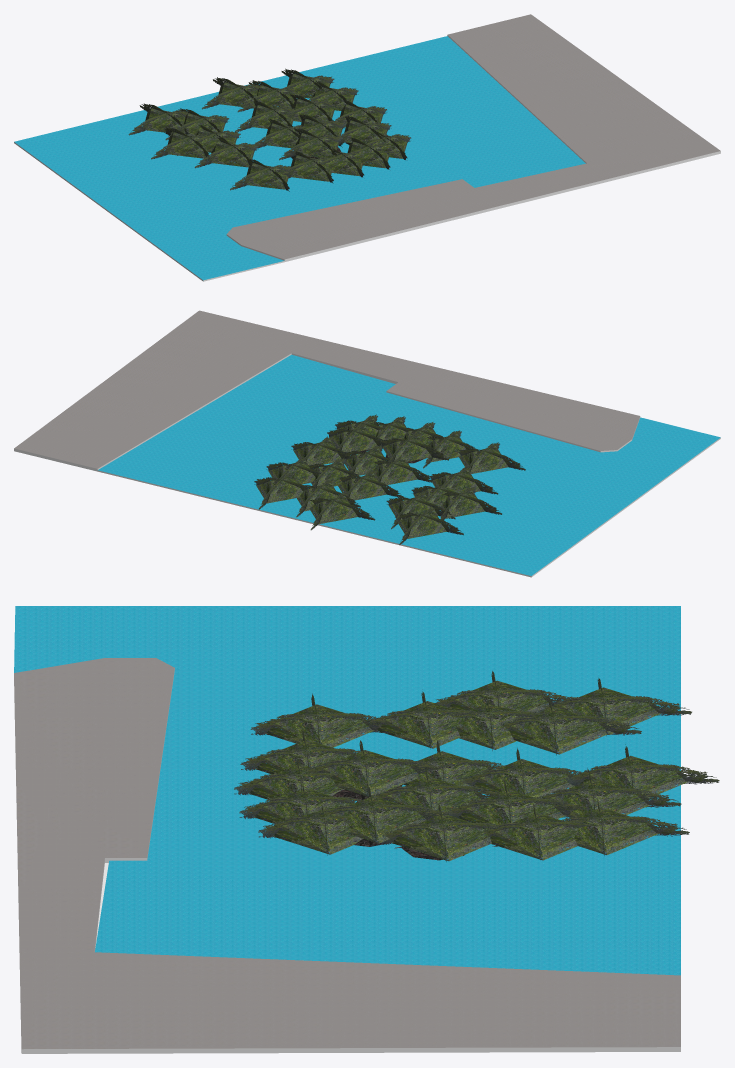
Rendered from seatech.dae.
3 views of the same model, one above another, from view 1: azimuth 30°, elevation 25°; view 2: azimuth 150°, elevation 25°; view 3: azimuth 270°, elevation 25° (orthographic). The views are drawn at different scales.
Visible parts, largest first — view 1: group_21, group_22, SketchUp, group_3, group_10, group_2, group_18, group_19, group_4, group_20, group_1, group_5 (+11 smaller); view 2: group_21, group_22, SketchUp, group_3, group_20, group_18, group_13, group_6, group_4, group_5, group_19, group_7 (+8 smaller); view 3: group_21, group_22, SketchUp, group_12 (×2), group_3 (×2), group_18 (×2), group_4 (×2), group_13 (×2), group_20 (×2), group_5 (×2), group_14 (×2), group_8 (×2) (+12 smaller).
Part boxes in pixels (left/top/right/bottom): group_21: left=14, top=36, right=585, bottom=280; group_22: left=227, top=14, right=720, bottom=259; SketchUp: left=14, top=35, right=720, bottom=281; group_3: left=246, top=163, right=288, bottom=189; group_10: left=211, top=142, right=254, bottom=167; group_2: left=290, top=155, right=329, bottom=181; group_18: left=217, top=82, right=257, bottom=108; group_19: left=167, top=132, right=205, bottom=158; group_4: left=295, top=133, right=338, bottom=157; group_20: left=145, top=108, right=185, bottom=132; group_1: left=347, top=141, right=387, bottom=168; group_5: left=344, top=120, right=387, bottom=143; group_21: left=98, top=354, right=720, bottom=575; group_22: left=14, top=310, right=639, bottom=468; SketchUp: left=14, top=353, right=720, bottom=577; group_3: left=459, top=446, right=508, bottom=473; group_20: left=398, top=510, right=446, bottom=538; group_18: left=310, top=496, right=357, bottom=524; group_13: left=256, top=476, right=302, bottom=503; group_6: left=338, top=473, right=386, bottom=500; group_4: left=382, top=436, right=431, bottom=461; group_5: left=330, top=426, right=377, bottom=452; group_19: left=440, top=490, right=484, bottom=518; group_7: left=293, top=440, right=342, bottom=466; group_21: left=14, top=606, right=680, bottom=975; group_22: left=14, top=658, right=680, bottom=1049; SketchUp: left=14, top=668, right=680, bottom=1053; group_12 (×2): left=493, top=707, right=641, bottom=754; group_3 (×2): left=250, top=704, right=394, bottom=747; group_18 (×2): left=565, top=755, right=719, bottom=797; group_4 (×2): left=304, top=750, right=447, bottom=795; group_13 (×2): left=561, top=807, right=689, bottom=854; group_20 (×2): left=537, top=687, right=691, bottom=734; group_5 (×2): left=311, top=796, right=458, bottom=843; group_14 (×2): left=536, top=779, right=681, bottom=815; group_8 (×2): left=445, top=789, right=584, bottom=825.
Bounding box in the file's own units: 11585 × 7769 × 425.
